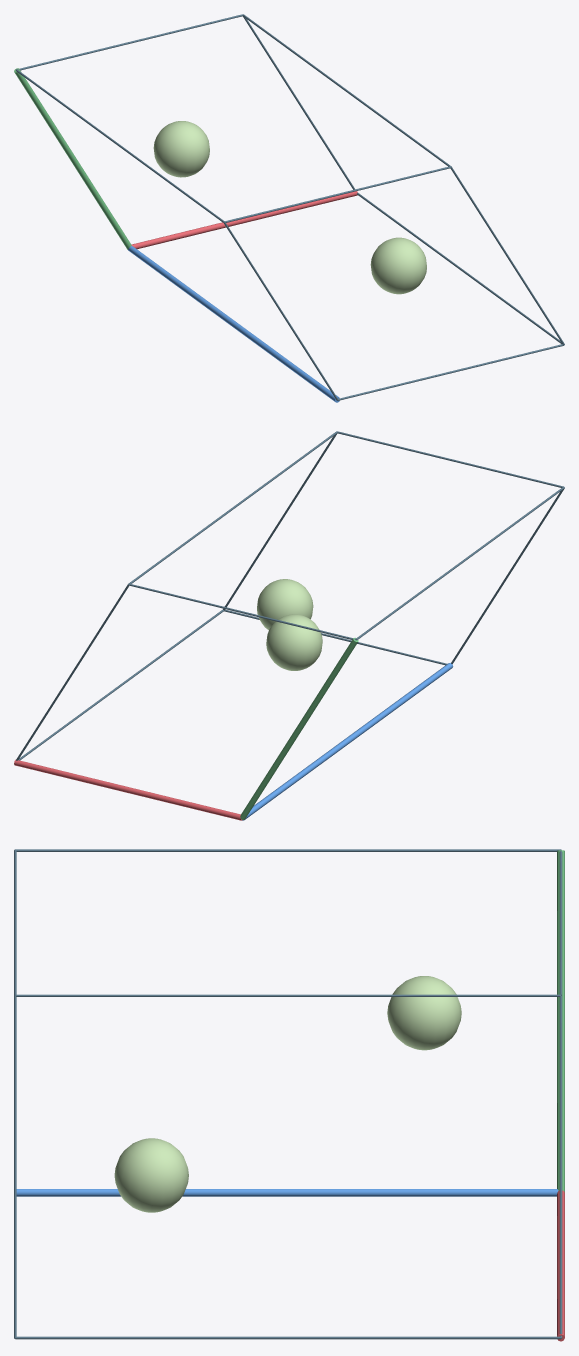
File: nguyen-to-ti.glb
The picture shows the model from 3 angles, top to bottom: view 1: azimuth 30°, elevation 25°; view 2: azimuth 150°, elevation 25°; view 3: azimuth 270°, elevation 25°; orthographic projection. The views are drawn at different scales.
Parts seen in each view (by area): view 1: Ô mạng và các trục a, b, c, Ti · Ti · 1 (×2); view 2: Ô mạng và các trục a, b, c, Ti · Ti · 1 (×2); view 3: Ô mạng và các trục a, b, c, Ti · Ti · 1 (×2).
Boxes of the visible parts, bbox=[...] form: Ô mạng và các trục a, b, c: bbox=[14, 14, 564, 402]; Ti · Ti · 1 (×2): bbox=[153, 121, 426, 294]; Ô mạng và các trục a, b, c: bbox=[14, 431, 564, 820]; Ti · Ti · 1 (×2): bbox=[257, 579, 322, 670]; Ô mạng và các trục a, b, c: bbox=[14, 849, 564, 1341]; Ti · Ti · 1 (×2): bbox=[114, 976, 461, 1212].
Size of the model in its own units: 4.47 by 2.61 by 4.73.
